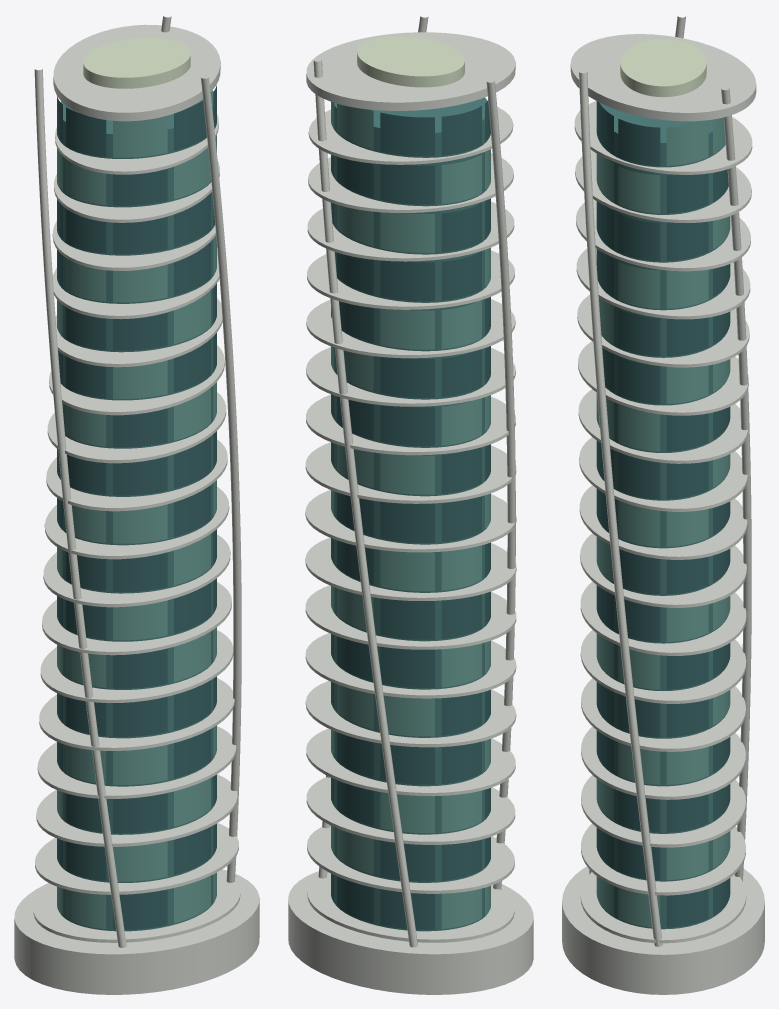
Rendered from tower-ribbon.glb.
The picture shows the model from 3 angles, left to right: view 1: azimuth 30°, elevation 25°; view 2: azimuth 150°, elevation 25°; view 3: azimuth 270°, elevation 25°; orthographic projection.
Visible parts, largest first — view 1: tower-white, tower-window-dark, tower-window-lit, tower-glass, tower-light; view 2: tower-white, tower-window-dark, tower-window-lit, tower-glass, tower-light; view 3: tower-white, tower-window-dark, tower-window-lit, tower-glass, tower-light.
Part boxes in pixels (x1=…): tower-white: x1=14, y1=16, x2=259, y2=994; tower-window-dark: x1=57, y1=85, x2=216, y2=929; tower-window-lit: x1=57, y1=115, x2=216, y2=929; tower-glass: x1=59, y1=90, x2=214, y2=931; tower-light: x1=83, y1=37, x2=190, y2=88; tower-white: x1=288, y1=16, x2=533, y2=994; tower-window-dark: x1=331, y1=100, x2=490, y2=929; tower-window-lit: x1=331, y1=102, x2=490, y2=928; tower-glass: x1=333, y1=97, x2=488, y2=931; tower-light: x1=357, y1=36, x2=464, y2=87; tower-white: x1=562, y1=16, x2=764, y2=994; tower-window-dark: x1=596, y1=101, x2=730, y2=927; tower-window-lit: x1=596, y1=117, x2=730, y2=927; tower-glass: x1=599, y1=102, x2=727, y2=929; tower-light: x1=620, y1=39, x2=706, y2=97.
Bounding box in the file's own units: 13.76 × 52.85 × 11.01.
